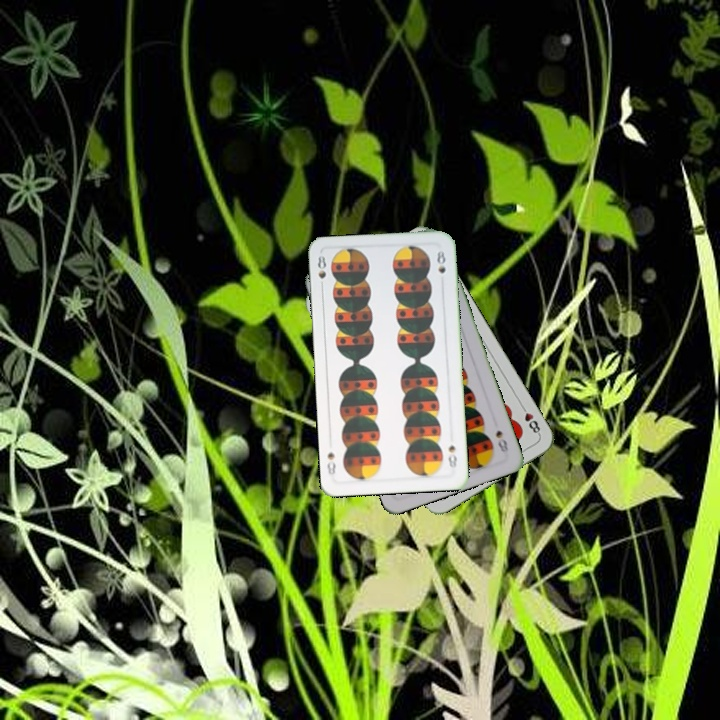H8: (517, 401, 543, 438)
S8: (313, 251, 329, 292), (491, 426, 511, 456), (444, 441, 459, 473)
